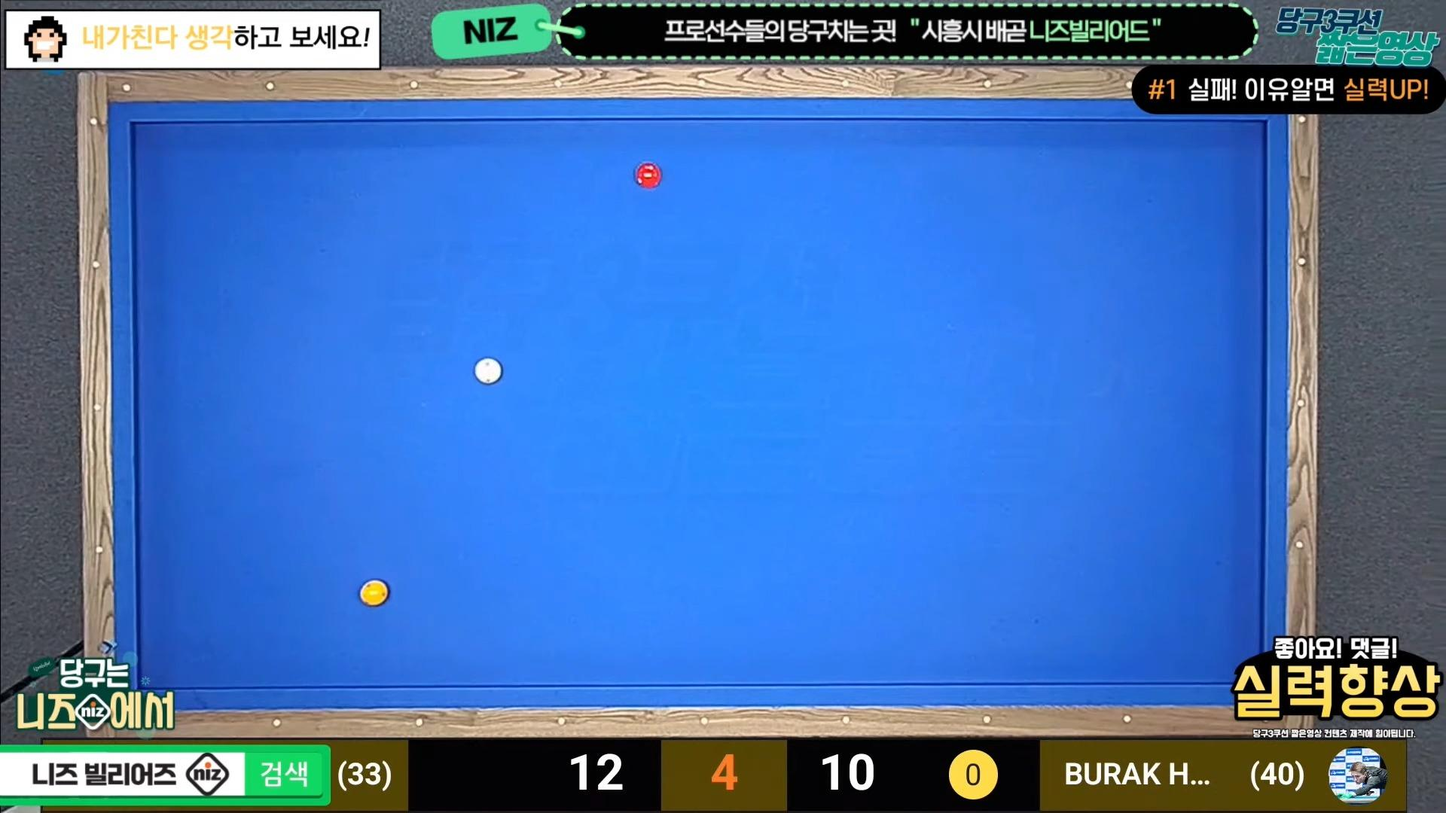-billiard-ball: (358, 578, 389, 607), (473, 356, 502, 385)
Red: (634, 164, 666, 191)
White: (473, 358, 506, 385)
Yellow: (359, 579, 394, 607)
